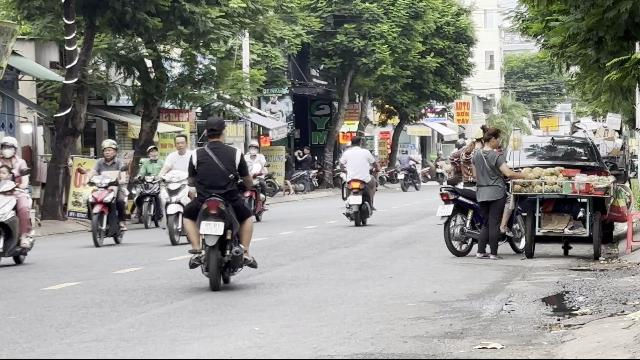helmet: (0, 136, 18, 158), (100, 138, 118, 160)
licenseplate: (200, 221, 224, 235), (436, 205, 454, 216)
motorcyclist: (182, 114, 256, 288), (82, 138, 130, 246), (0, 134, 36, 270), (160, 132, 197, 244)
nohelmet: (203, 116, 227, 140), (174, 134, 188, 150)
